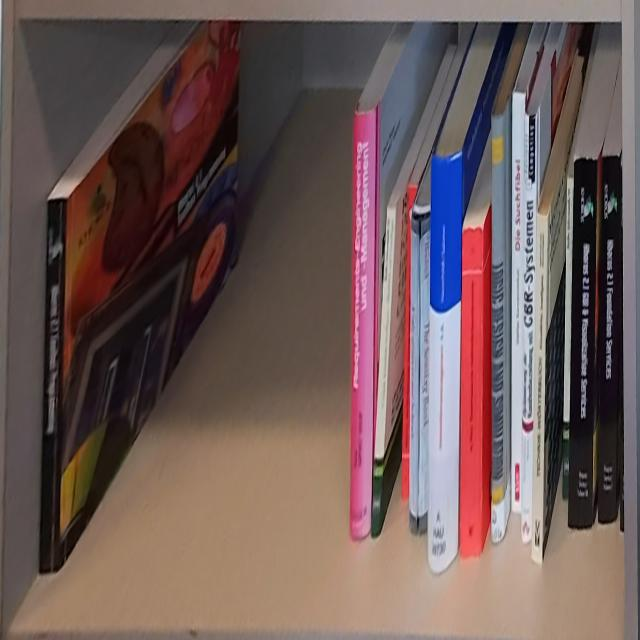Book Spine: (427, 151, 462, 573), (36, 198, 67, 575), (351, 108, 377, 538), (570, 156, 599, 530), (370, 206, 397, 539), (599, 156, 620, 525), (520, 114, 538, 544), (461, 228, 484, 558), (511, 91, 527, 514), (532, 212, 551, 564), (491, 112, 505, 544), (419, 216, 431, 535), (562, 177, 573, 502), (410, 217, 420, 536)
